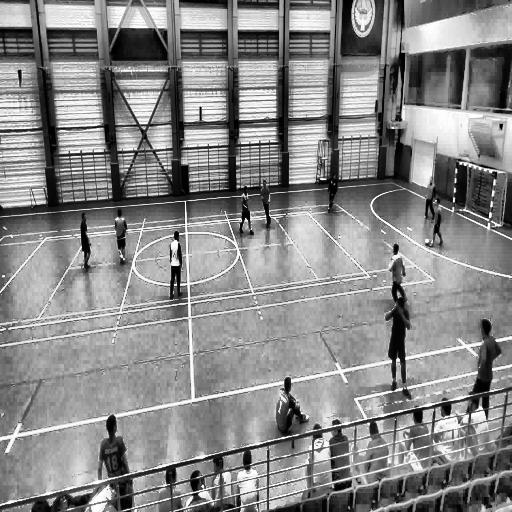ball: (424, 237, 430, 246)
player: (385, 288, 410, 393), (475, 320, 503, 412), (276, 376, 308, 446), (388, 242, 408, 303), (169, 230, 184, 298), (426, 195, 442, 246), (239, 185, 255, 235), (115, 209, 128, 266), (80, 212, 92, 271), (260, 180, 272, 230), (424, 172, 436, 222), (328, 174, 338, 213)
